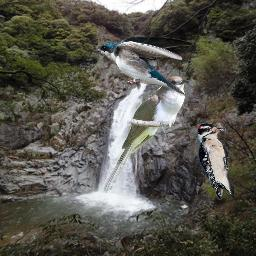Cuckoo: (102, 75, 189, 194)
Swallow: (95, 35, 194, 96)
Woodpecker: (197, 123, 234, 200)
